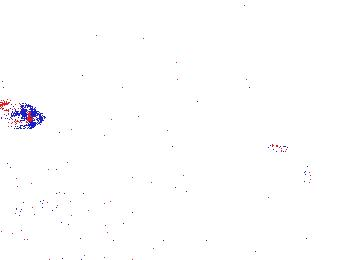X-ray fish: (10, 223, 63, 255), (1, 99, 45, 131), (299, 157, 315, 190)
red belly glassfish: (265, 141, 310, 156)
